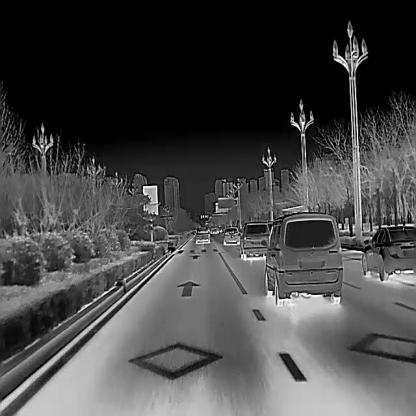car: (264, 210, 342, 304), (361, 224, 415, 280), (238, 221, 271, 258), (223, 226, 240, 244), (195, 228, 209, 242)
